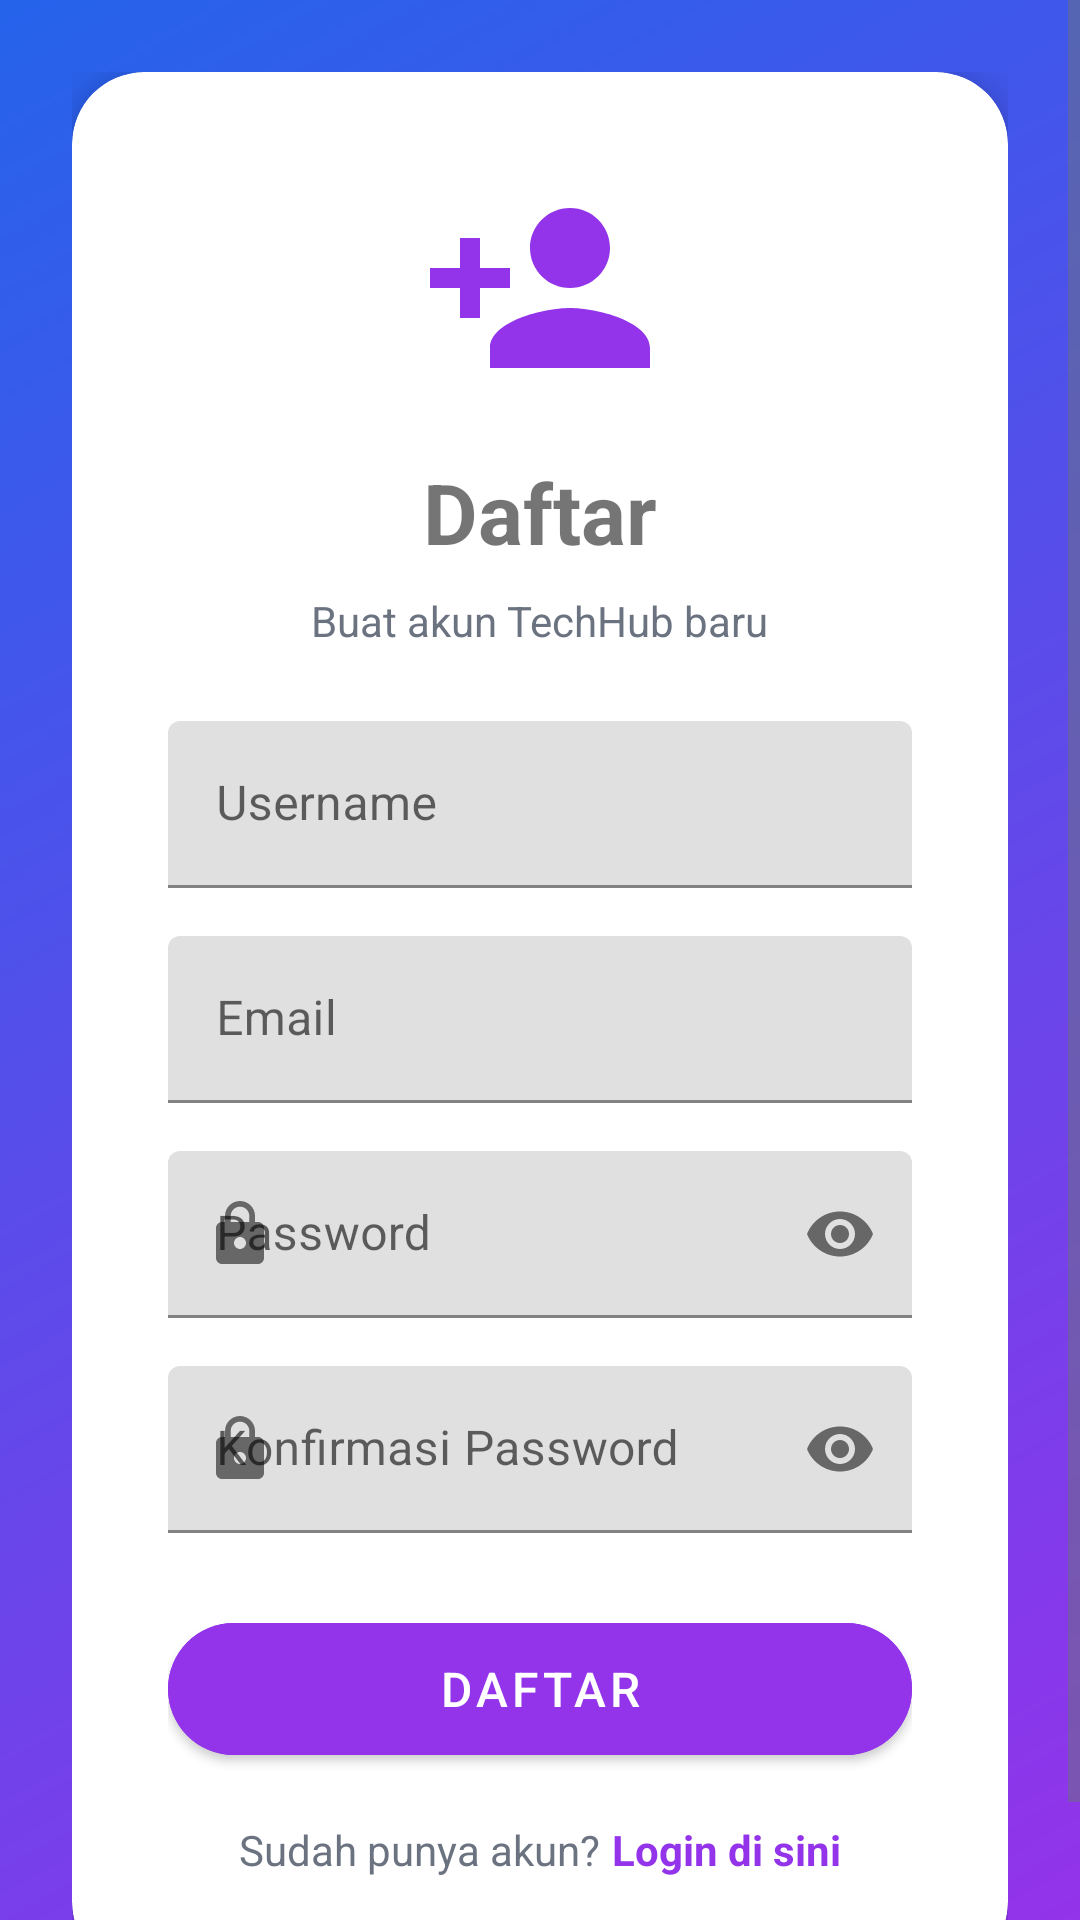

Where to tap for icons on this 1080px x 1920px app screen, as point (x, y):
Register Icon: point (540, 288)
